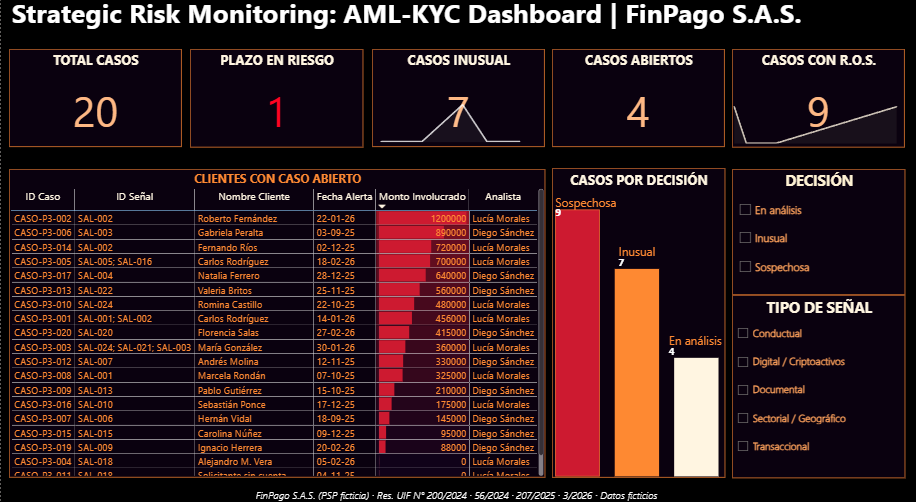

Layout of this report page (visuals, bound fields, positions):
{"tool":"powerbi","page":{"name":"Vista Operacional","canvas":[1664,936],"ordinal":0},"visuals":[{"type":"card","title":"TOTAL CASOS","fields":{"Values":["LOG_20_CASOS1.Total Casos"]},"box":[15.4,103.8,314.1,178.2],"z":0},{"type":"card","title":"PLAZO EN RIESGO","fields":{"Values":["LOG_20_CASOS1.Plazo en Riesgo"]},"box":[342.9,103.5,314.9,179],"z":1000},{"type":"card","title":"CASOS ABIERTOS","fields":{"Values":["LOG_20_CASOS1.Casos Abiertos"]},"box":[1002.6,103.8,314.1,178.2],"z":2000},{"type":"card","title":"CASOS CON R.O.S.","fields":{"Values":["LOG_20_CASOS1.Casos con ROS"]},"box":[1328.2,103.8,314.1,179.5],"z":3000},{"type":"card","title":"CASOS INUSUAL","fields":{"Values":["LOG_20_CASOS1.Casos Inusual"]},"box":[674.4,103.8,314.1,178.2],"z":4000},{"type":"tableEx","title":"CLIENTES CON CASO ABIERTO","fields":{"Values":["LOG_20_CASOS1.ID_CASO","LOG_20_CASOS1.ID_SEÑAL_ACTIVADA","LOG_20_CASOS1.NOMBRE_CLIENTE","LOG_20_CASOS1.FECHA_ALERTA","LOG_20_CASOS1.MONTO_INVOLUCRADO","LOG_20_CASOS1.ANALISTA_RESPONSABLE"]},"box":[15.1,321.3,974.8,560.7],"z":5000},{"type":"columnChart","title":"CASOS POR DECISIÓN","fields":{"Category":["LOG_20_CASOS1.DECISION"],"Y":["LOG_20_CASOS1.Total Casos"]},"box":[1002.3,320.2,314.5,562.7],"z":6000},{"type":"slicer","title":"DECISIÓN","fields":{"Values":["LOG_20_CASOS1.DECISION"]},"box":[1328.5,321.3,314.9,228.6],"z":7000},{"type":"lineChart","fields":{"Category":["LOG_20_CASOS1.FECHA_OPERACION.Variación.Jerarquía de fechas.Día"],"Y":["LOG_20_CASOS1.Casos Inusual"]},"box":[676.4,191.4,325.9,87.2],"z":8000},{"type":"slicer","title":"TIPO DE SEÑAL","fields":{"Values":["LOG_20_CASOS1.CATEGORIA_SEÑAL"]},"box":[1328.3,550,315.2,332.6],"z":9000},{"type":"lineChart","fields":{"Category":["LOG_20_CASOS1.FECHA_OPERACION.Variación.Jerarquía de fechas.Día"],"Y":["LOG_20_CASOS1.Casos con ROS"]},"box":[1306.9,194.1,358,86.3],"z":10000},{"type":"textbox","box":[14.5,0,1629.1,72.7],"z":11000},{"type":"textbox","box":[13.3,896.2,1631.4,30.3],"z":12000}]}

Visuals, with their boxes in screenshot pixels (x1, y1, x2, y2), scaled from the page's 1664x936 canvas onto the 916x502 screenshot:
"TOTAL CASOS" card: 8:56:181:151
"PLAZO EN RIESGO" card: 189:56:362:152
"CASOS ABIERTOS" card: 552:56:725:151
"CASOS CON R.O.S." card: 731:56:904:152
"CASOS INUSUAL" card: 371:56:544:151
"CLIENTES CON CASO ABIERTO" tableEx: 8:172:545:473
"CASOS POR DECISIÓN" columnChart: 552:172:725:474
"DECISIÓN" slicer: 731:172:905:295
lineChart - LOG_20_CASOS1.FECHA_OPERACION.Variación.Jerarquía de fechas.Día x LOG_20_CASOS1.Casos Inusual: 372:103:552:149
"TIPO DE SEÑAL" slicer: 731:295:905:473
lineChart - LOG_20_CASOS1.FECHA_OPERACION.Variación.Jerarquía de fechas.Día x LOG_20_CASOS1.Casos con ROS: 719:104:915:150
textbox: 8:0:905:39
textbox: 7:481:905:497
